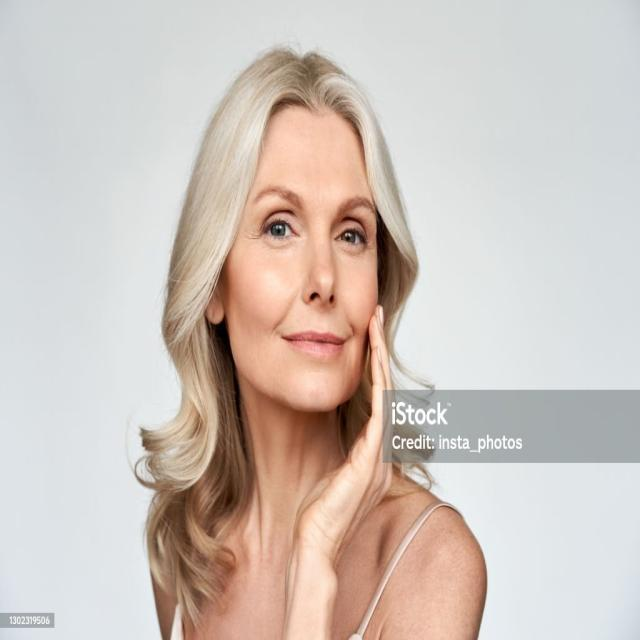dry: (280, 122, 358, 194), (228, 222, 264, 282)
